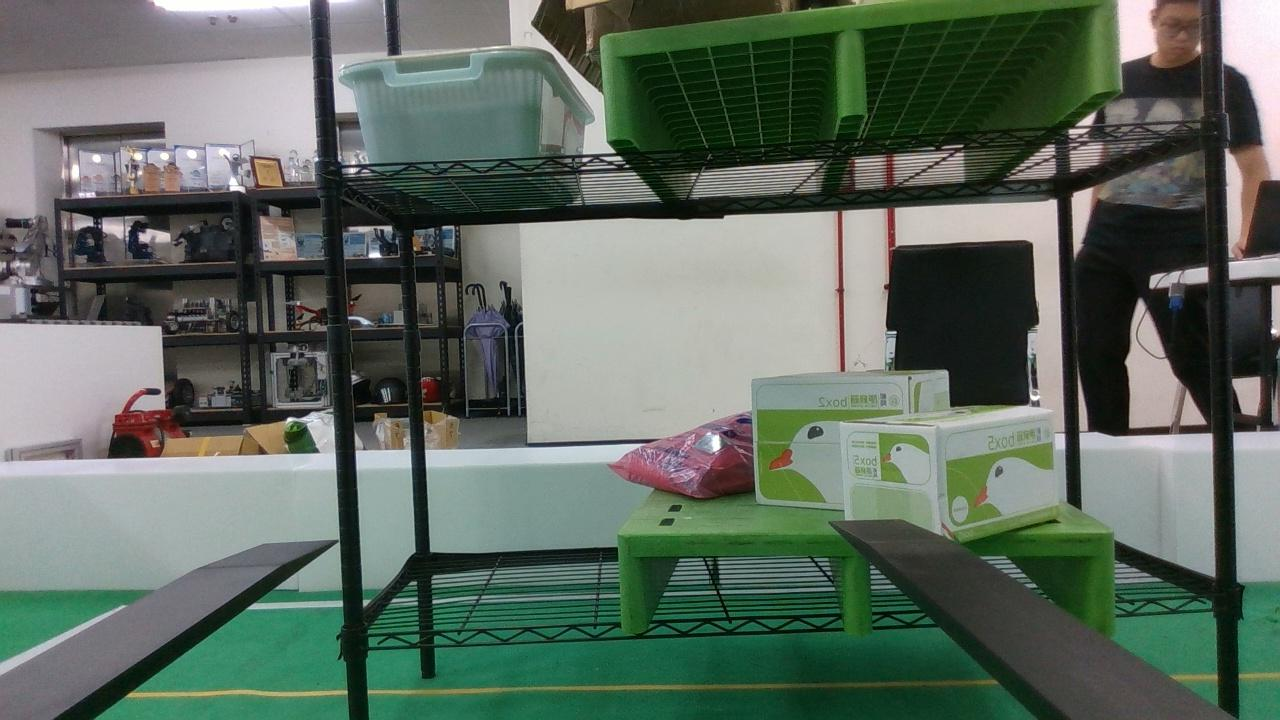Pallet: (589, 0, 1124, 149), (616, 534, 1113, 639)
